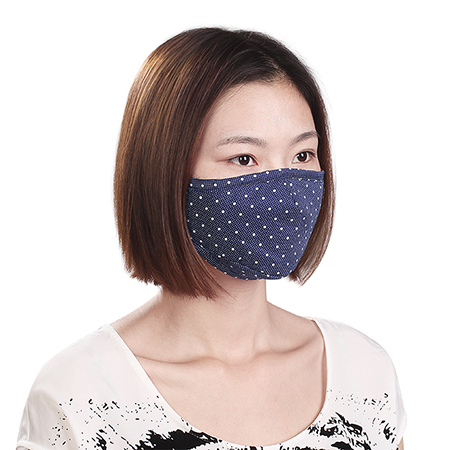face_mask: (181, 78, 323, 273)
